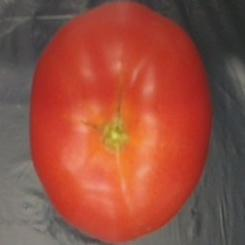unripe: (21, 0, 218, 245)
